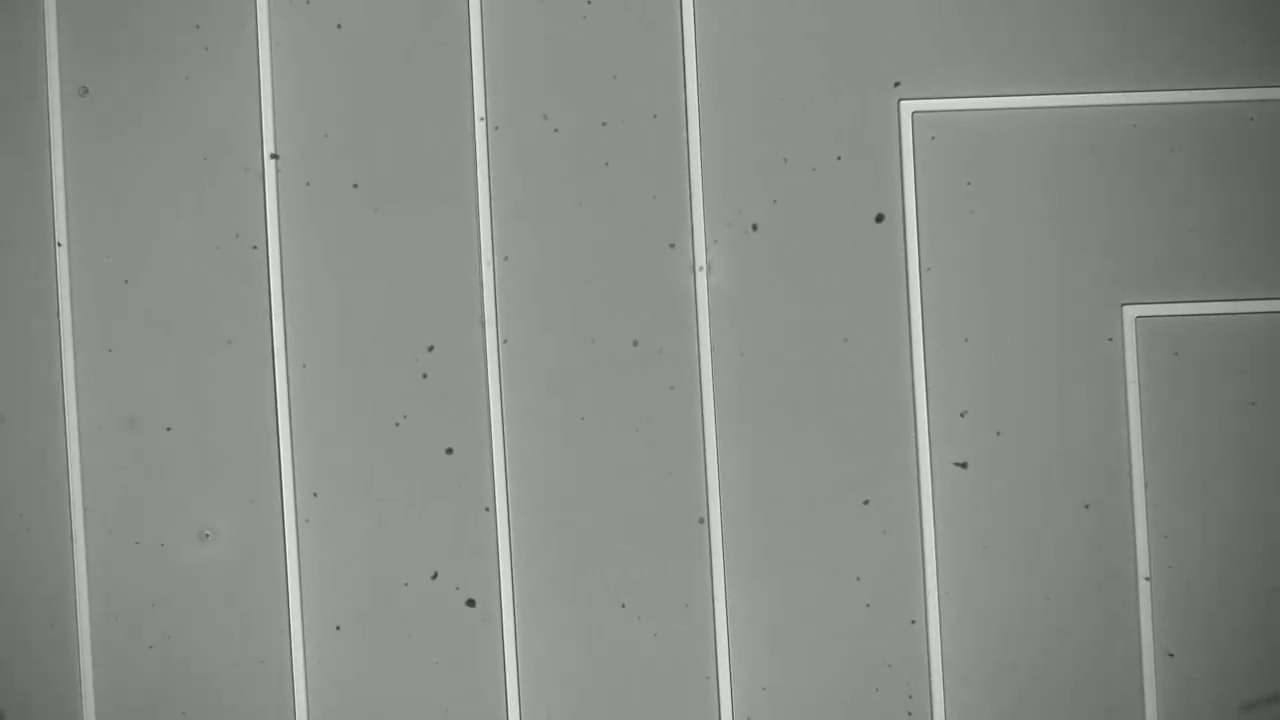stains_enbedded: (262, 150, 283, 169)
